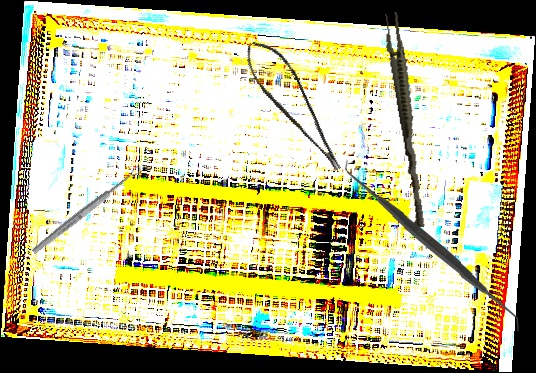Micro Scissor: (237, 31, 347, 185)
Spatula Surgical: (342, 159, 523, 332)
Surgical Spoon: (30, 165, 143, 256)
Tissue Forceps: (379, 11, 433, 229)
